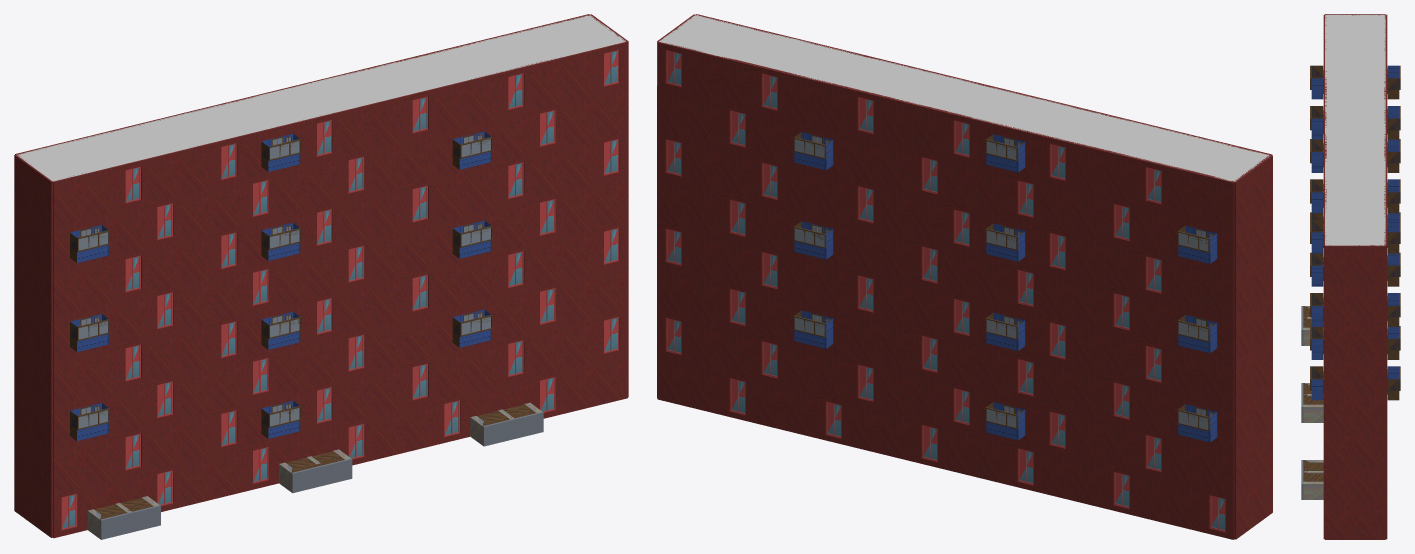
The model's file is house.obj.
The picture shows the model from 3 angles, left to right: view 1: azimuth 30°, elevation 25°; view 2: azimuth 150°, elevation 25°; view 3: azimuth 270°, elevation 25°; orthographic projection. The views are drawn at different scales.
Parts seen in each view (by area): view 1: geometry_0, geometry_188, geometry_189, geometry_187, geometry_157, geometry_174, geometry_170, geometry_158, geometry_161, geometry_169, geometry_162, geometry_173 (+162 smaller); view 2: geometry_0, geometry_362, geometry_363, geometry_366, geometry_378, geometry_375, geometry_382, geometry_367, geometry_374, geometry_379, geometry_224, geometry_316 (+159 smaller); view 3: geometry_0, geometry_415, geometry_421, geometry_423, geometry_427, geometry_420, geometry_426, geometry_414, geometry_422, geometry_412, geometry_413, geometry_416 (+27 smaller).
Boxes of the visible parts, bbox=[...] form: geometry_0: bbox=[17, 15, 626, 181]; geometry_188: bbox=[279, 449, 352, 493]; geometry_189: bbox=[470, 402, 543, 446]; geometry_187: bbox=[87, 496, 160, 539]; geometry_157: bbox=[53, 173, 85, 226]; geometry_174: bbox=[468, 72, 500, 125]; geometry_170: bbox=[372, 96, 404, 148]; geometry_158: bbox=[85, 166, 117, 218]; geometry_161: bbox=[149, 150, 181, 203]; geometry_169: bbox=[340, 104, 372, 156]; geometry_162: bbox=[180, 143, 213, 195]; geometry_173: bbox=[436, 80, 468, 133]; geometry_0: bbox=[659, 14, 1269, 181]; geometry_362: bbox=[1201, 174, 1234, 227]; geometry_363: bbox=[1169, 166, 1202, 219]; geometry_366: bbox=[1105, 150, 1138, 203]; geometry_378: bbox=[817, 80, 850, 133]; geometry_375: bbox=[881, 95, 914, 149]; geometry_382: bbox=[721, 57, 754, 110]; geometry_367: bbox=[1073, 142, 1106, 196]; geometry_374: bbox=[913, 103, 946, 157]; geometry_379: bbox=[785, 72, 818, 125]; geometry_224: bbox=[1201, 443, 1234, 495]; geometry_316: bbox=[1201, 264, 1234, 316]; geometry_0: bbox=[1325, 14, 1385, 245]; geometry_415: bbox=[1355, 466, 1385, 503]; geometry_421: bbox=[1355, 356, 1385, 393]; geometry_423: bbox=[1355, 319, 1385, 356]; geometry_427: bbox=[1355, 245, 1385, 282]; geometry_420: bbox=[1325, 356, 1355, 393]; geometry_426: bbox=[1325, 245, 1355, 282]; geometry_414: bbox=[1325, 466, 1355, 503]; geometry_422: bbox=[1325, 319, 1355, 356]; geometry_412: bbox=[1325, 503, 1355, 539]; geometry_413: bbox=[1355, 503, 1385, 539]; geometry_416: bbox=[1325, 430, 1355, 466].
Bounding box in the file's own units: 54.3 × 32 × 9.83.
